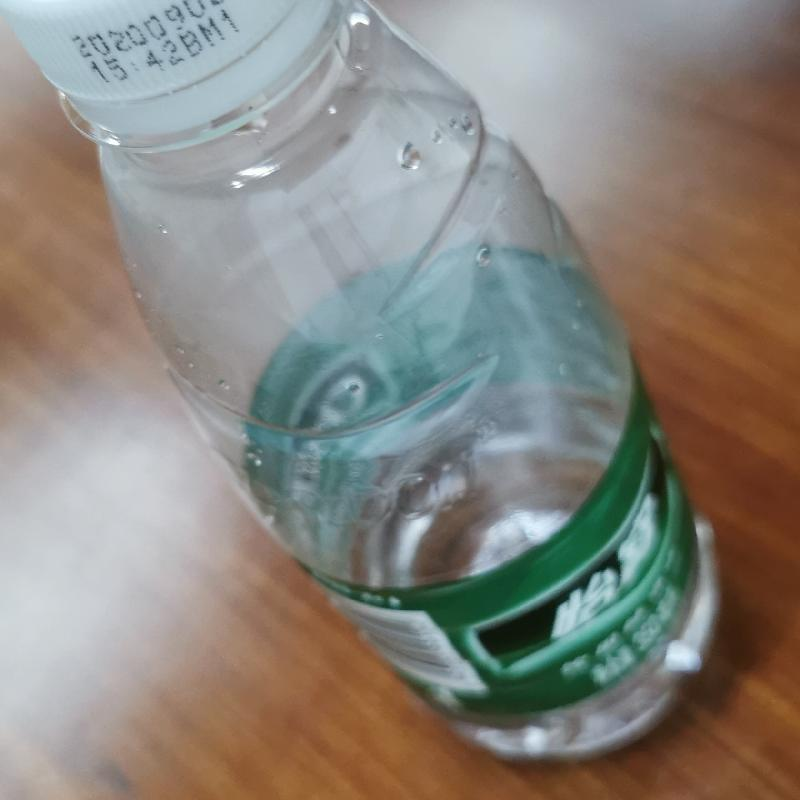bottles: (0, 3, 722, 768)
